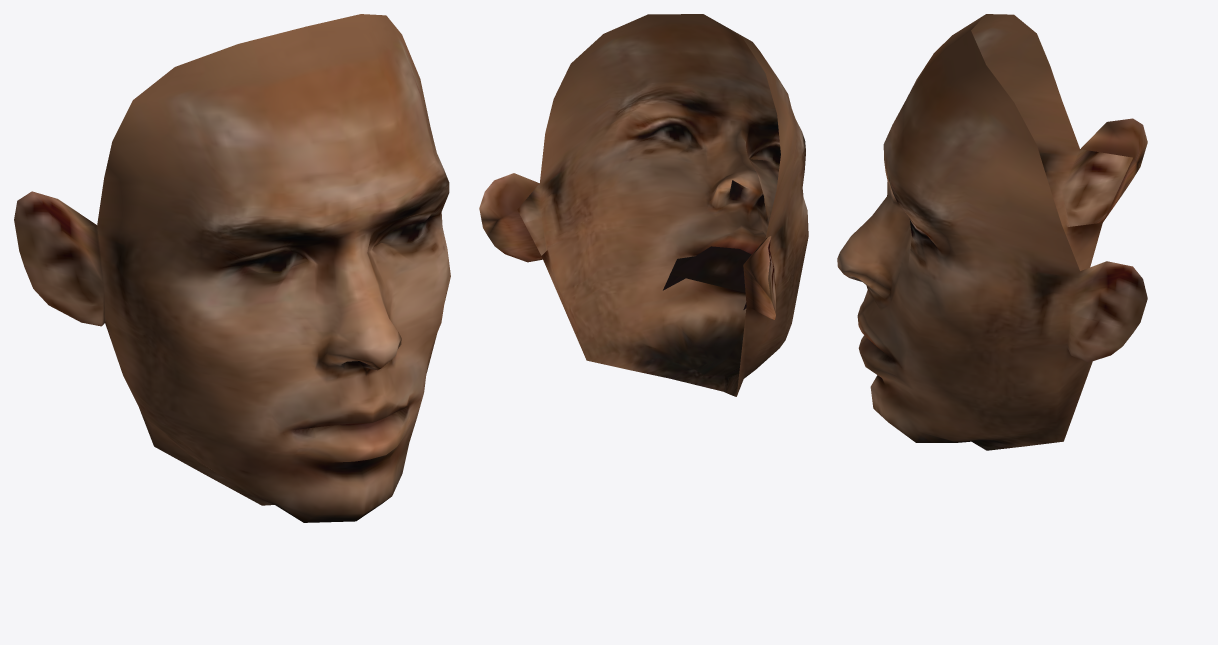
The model's file is nld-dijk.glb.
The picture shows the model from 3 angles, left to right: view 1: azimuth 30°, elevation 25°; view 2: azimuth 150°, elevation 25°; view 3: azimuth 270°, elevation 25°; orthographic projection. The views are drawn at different scales.
Visible parts, largest first — view 1: nld-dijk; view 2: nld-dijk; view 3: nld-dijk.
Boxes of the visible parts, bbox=[...] form: nld-dijk: bbox=[14, 14, 450, 522]; nld-dijk: bbox=[479, 14, 808, 396]; nld-dijk: bbox=[837, 14, 1147, 450].
Bounding box in the file's own units: 0.177 × 0.3166 × 0.1755.
Materials: 1 (1 with a texture image).
